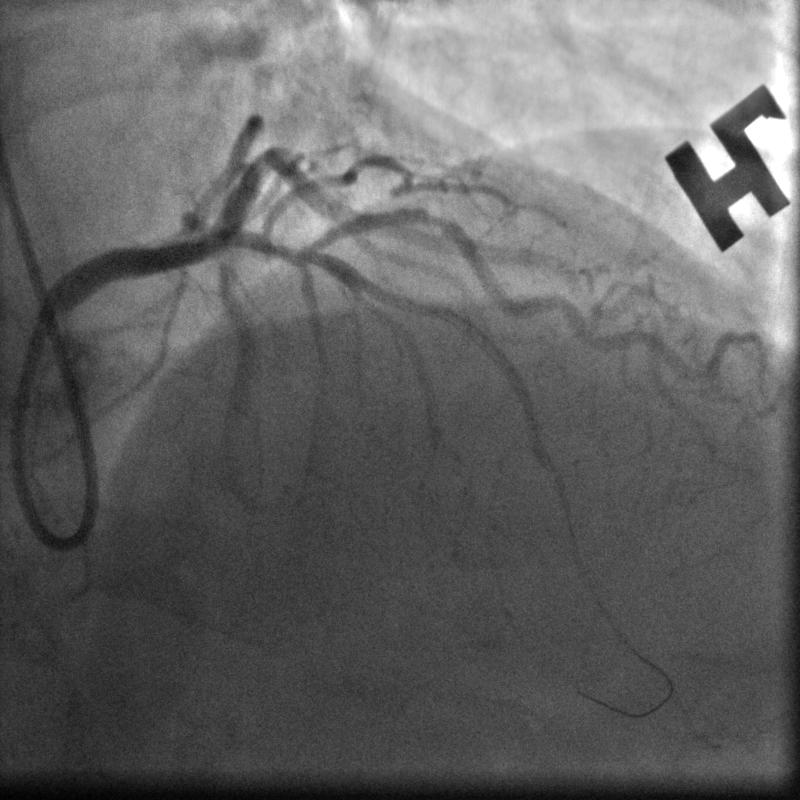Stenosis: (407, 201, 459, 237)
